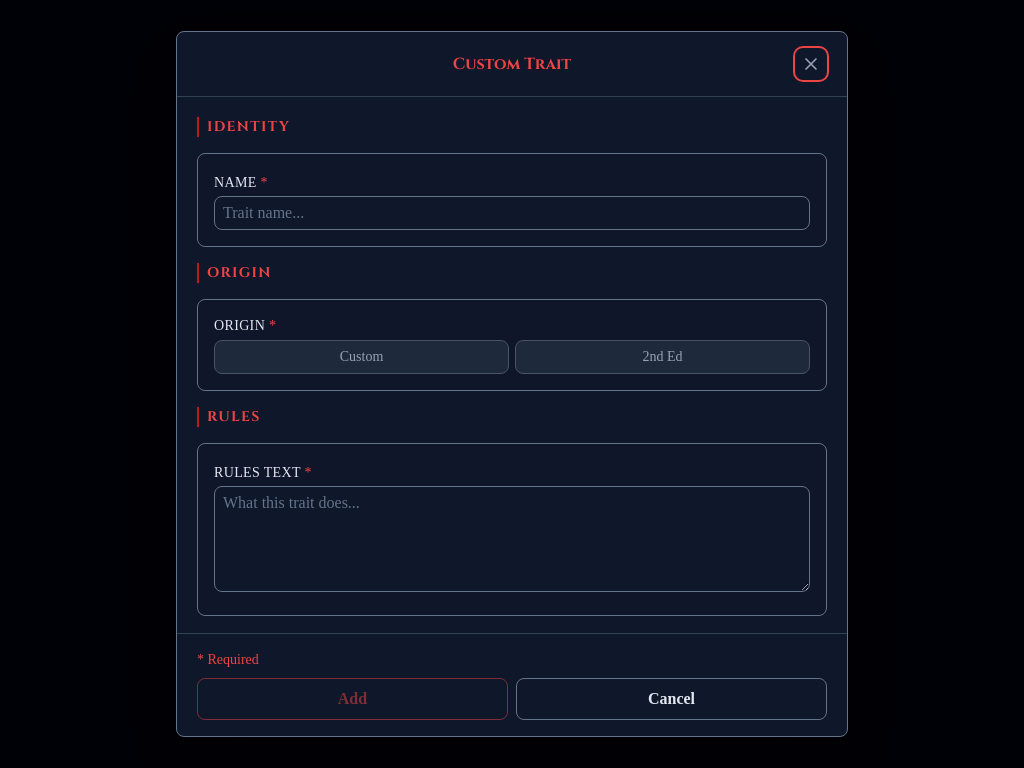
Test: CustomTraitForm › disables submit until name, origin, and rules text are all filled
Expected: the button "Add" is disabled, [197,678,508,720]
Type "Iron Will" into the field labelled "Name *" at (512, 213), box [214,196,810,230]
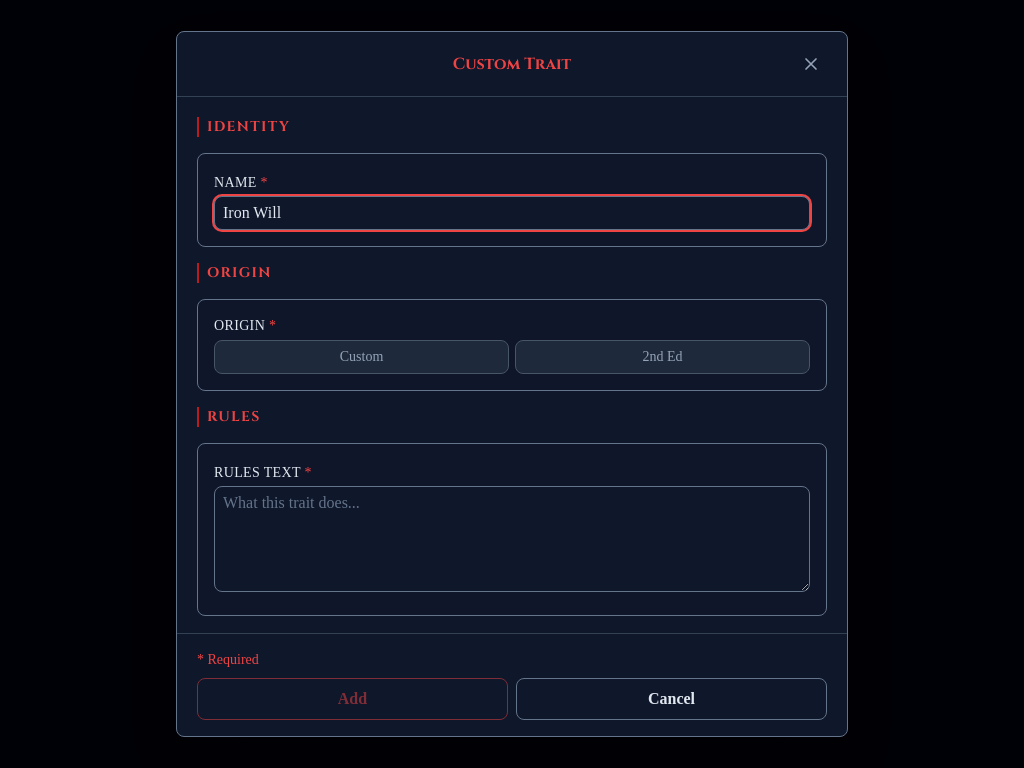
Expected: the button "Add" is disabled, [197,678,508,720]
Click the radio button labelled "Custom" at (362, 357), box [214,340,509,374]
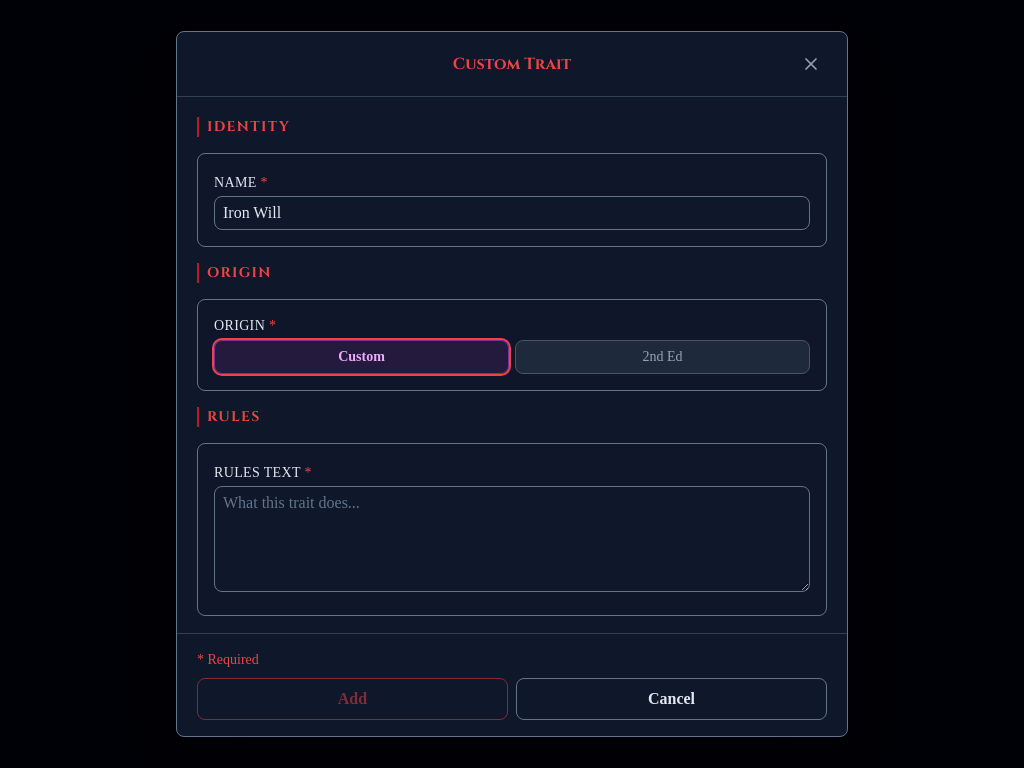
Expected: the button "Add" is disabled, [197,678,508,720]
Type "Immune to Fear." into the text box labelled "Rules Text *" at (512, 539), box [214,486,810,592]
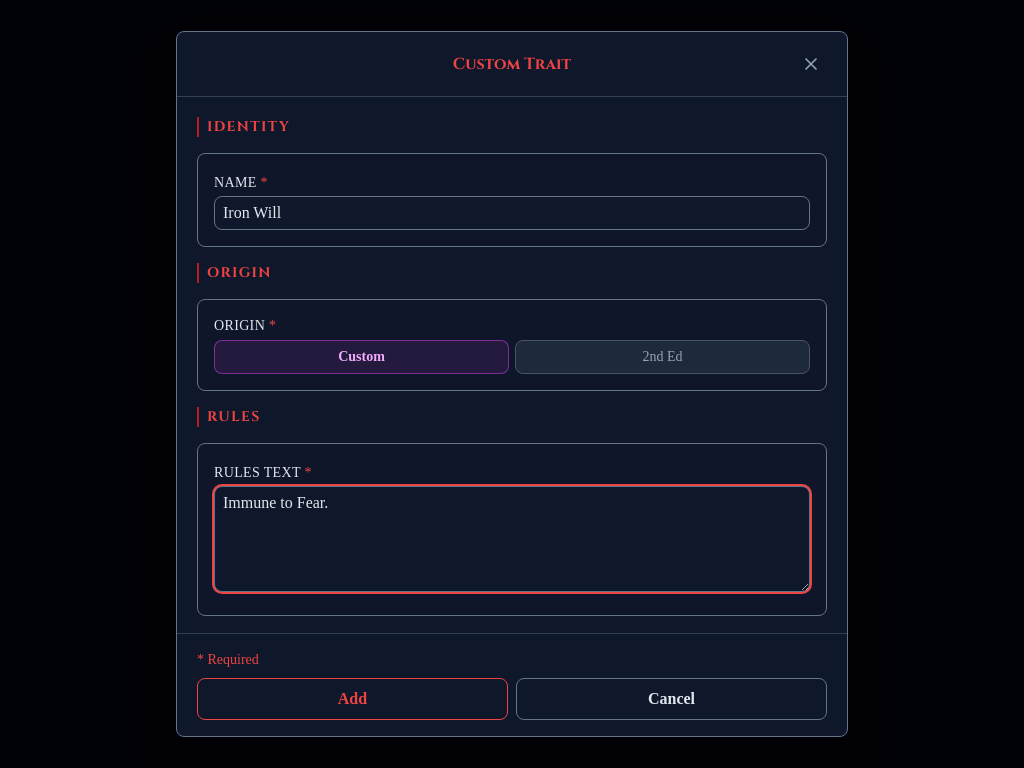
Now the button "Add" is enabled, box [197,678,508,720]
